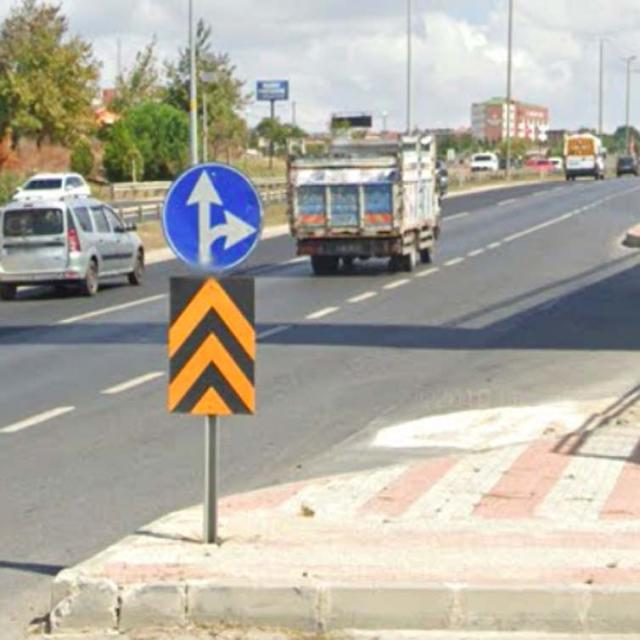ilerisag: (162, 163, 262, 273)
